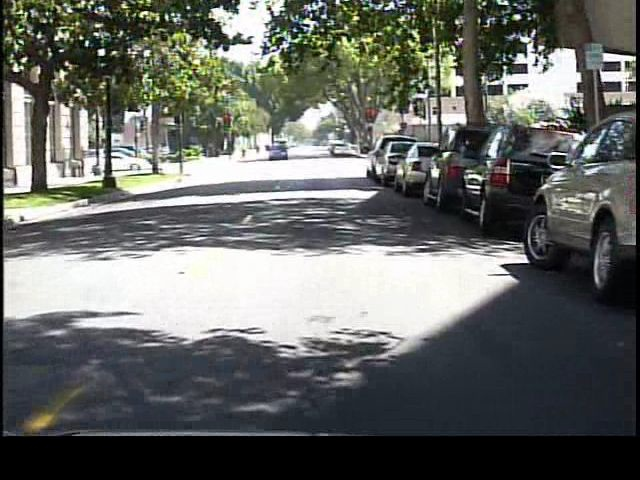person: (237, 141, 251, 164)
